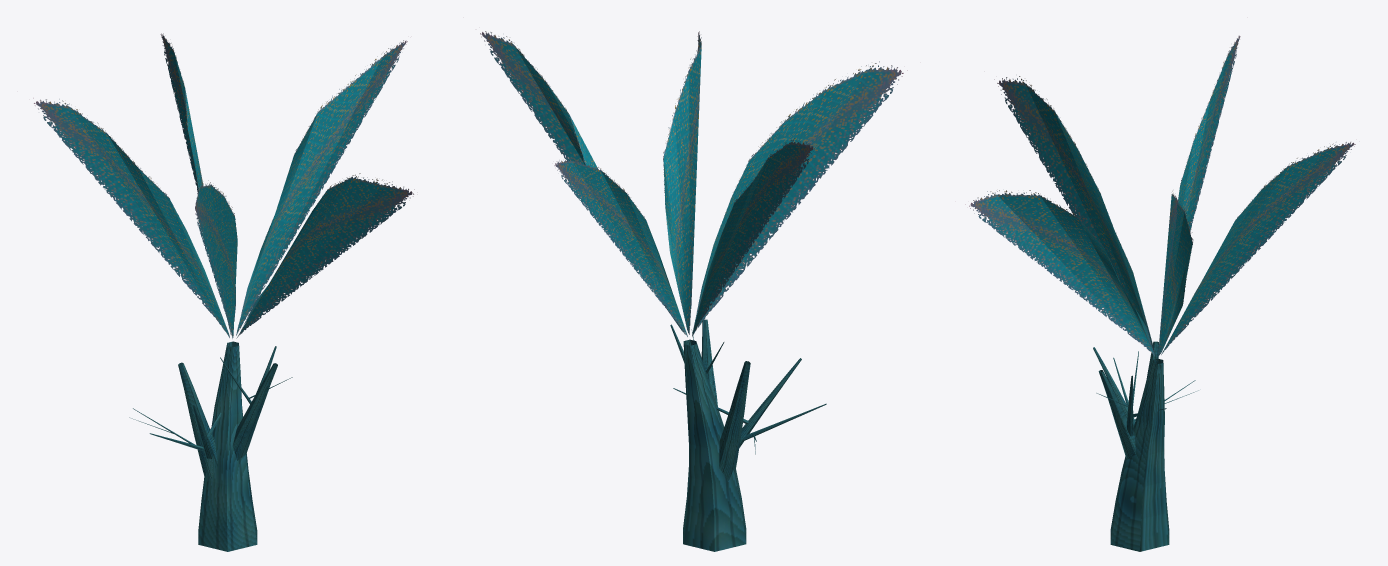
File: blue_tree.obj
The picture shows the model from 3 angles, left to right: view 1: azimuth 30°, elevation 25°; view 2: azimuth 150°, elevation 25°; view 3: azimuth 270°, elevation 25°; orthographic projection. The views are drawn at different scales.
Size of the model in its own units: 12.75 by 14.52 by 12.42.
